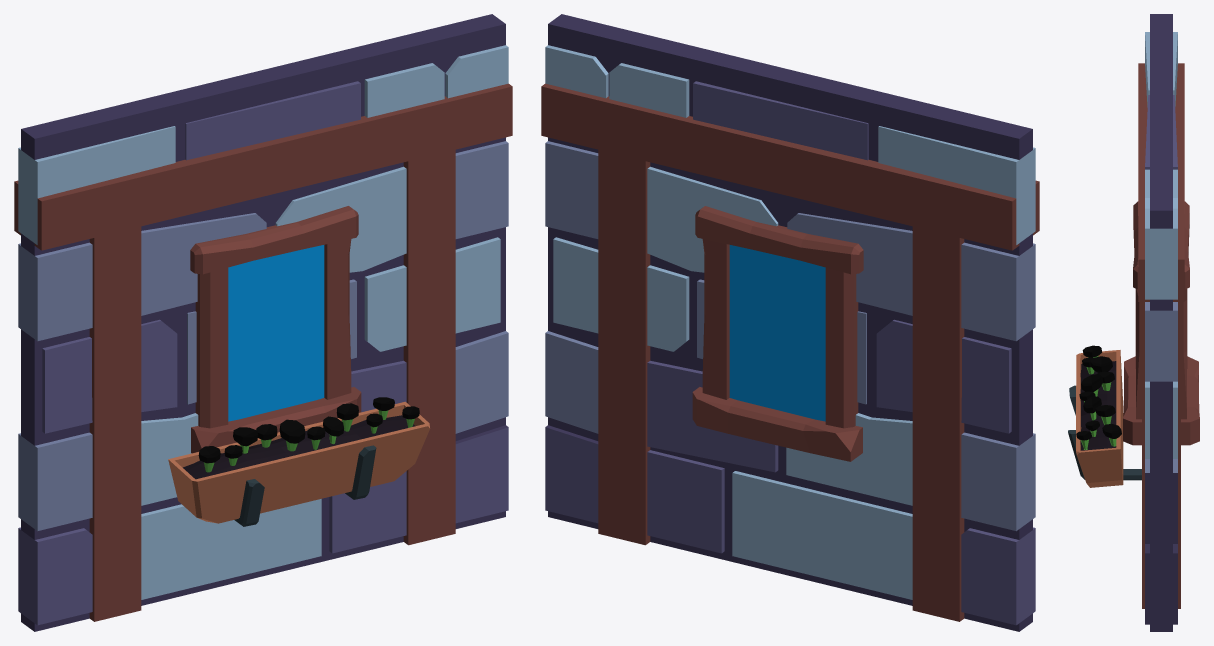
Rendered from Modular Wall 09 MK2 W3.fbx.
The picture shows the model from 3 angles, left to right: view 1: azimuth 30°, elevation 25°; view 2: azimuth 150°, elevation 25°; view 3: azimuth 270°, elevation 25°; orthographic projection. The views are drawn at different scales.
Parts seen in each view (by area): view 1: Modular Wall 09 MK2 W3; view 2: Modular Wall 09 MK2 W3; view 3: Modular Wall 09 MK2 W3.
Boxes of the visible parts, x1,y1,x2,y2 form: Modular Wall 09 MK2 W3: (14,14,512,631); Modular Wall 09 MK2 W3: (541,14,1039,631); Modular Wall 09 MK2 W3: (1068,14,1199,631).
Size of the model in its own units: 400 by 400 by 113.
